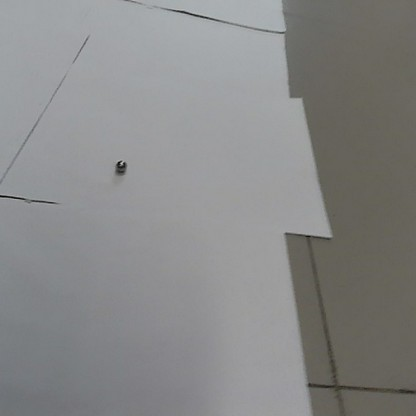ironball: (114, 157, 128, 175)
